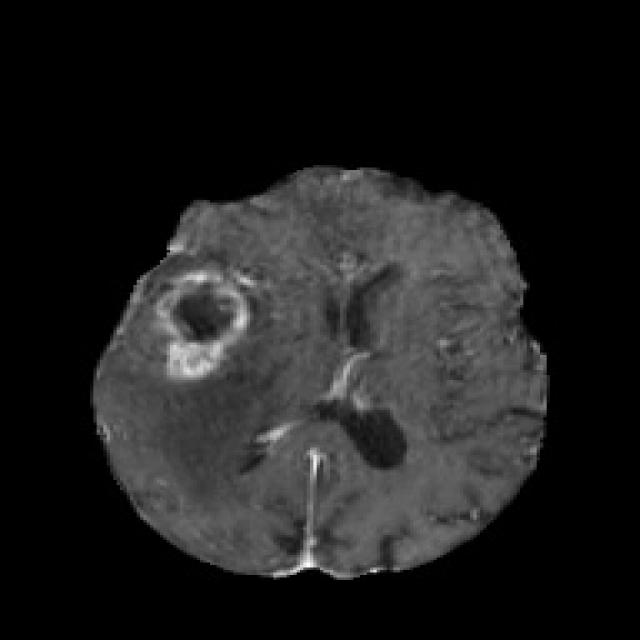positive: (158, 276, 248, 382)
